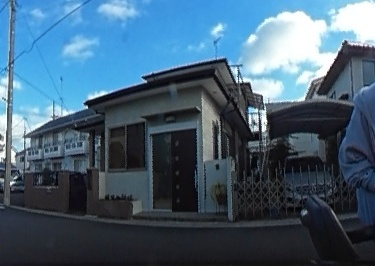person: (329, 21, 375, 253)
